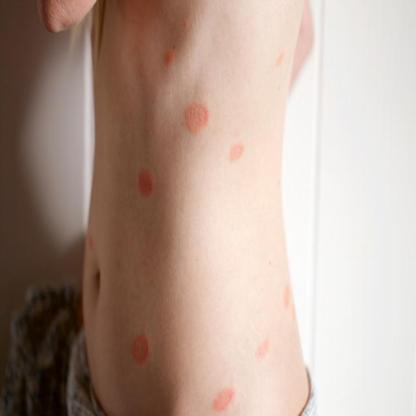Ringworm: (176, 93, 218, 142), (125, 323, 157, 373), (209, 378, 244, 416), (225, 129, 254, 171), (131, 158, 156, 204)
